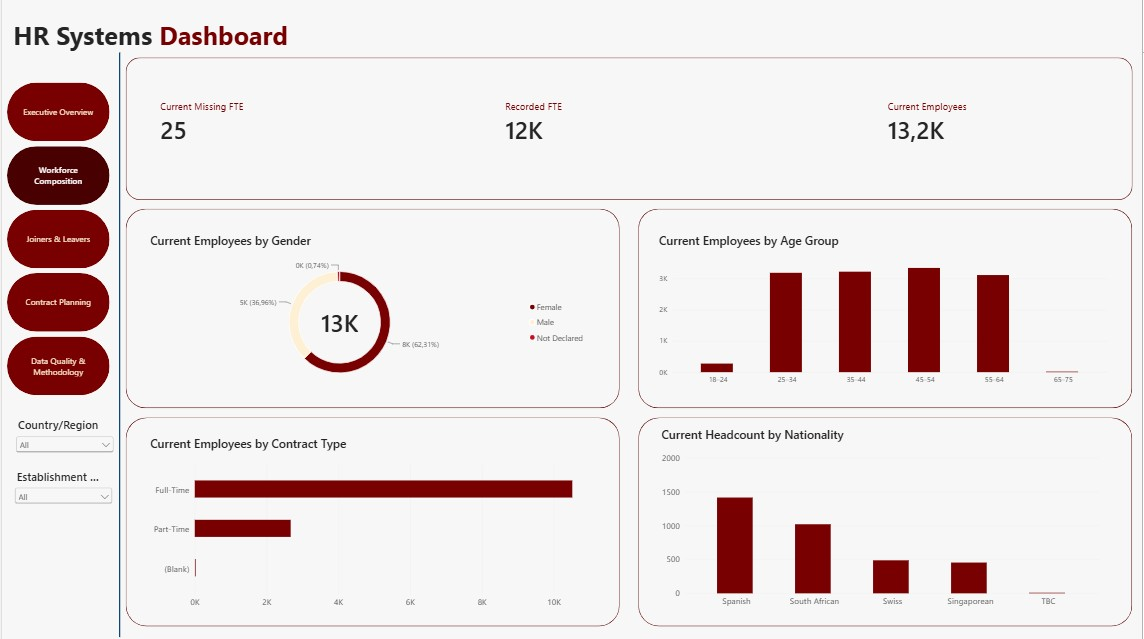

This screenshot's page, from the dashboard's own definition file:
{"tool":"powerbi","page":{"name":"Workforce Composition","canvas":[1920,1080],"ordinal":1},"visuals":[{"type":"shape","box":[208,704,832,352],"z":0},{"type":"shape","box":[1072,704,832,352],"z":1000},{"type":"shape","box":[1072,352,832,336],"z":2000},{"type":"shape","box":[208,352,832,336],"z":3000},{"type":"shape","box":[208,96,1696,240],"z":4000},{"type":"textbox","box":[19,29.2,557.3,80.2],"z":5000},{"type":"shape","box":[192,88,13.1,984.8],"z":6000},{"type":"pageNavigator","box":[7.8,137.9,174,529.8],"z":7000},{"type":"donutChart","title":"Current Employees by Gender","fields":{"Category":["Employees_Reporting.Gender"],"Y":["Employees_Reporting.Current Headcount"]},"box":[234.3,376.6,771,290.6],"z":8000},{"type":"columnChart","title":"Current Employees by Age Group","fields":{"Category":["Employees_Reporting.Age Band"],"Y":["Employees_Reporting.Current Headcount"]},"box":[1089.7,376.6,788.8,290.6],"z":9000},{"type":"clusteredBarChart","title":"Current Employees by Contract Type","fields":{"Category":["Employees_Reporting.Contract Type"],"Y":["Employees_Reporting.Current Headcount"]},"box":[234.3,717.6,784.3,326.2],"z":10000},{"type":"columnChart","fields":{"Category":["Employees_Reporting.Nationality"],"Y":["Employees_Reporting.Current Headcount"]},"box":[1095.6,704,769.5,339.8],"z":11000},{"type":"slicer","fields":{"Values":["Employees_Reporting.Country/Region"]},"box":[19.3,704.2,173.5,86],"z":12000},{"type":"slicer","fields":{"Values":["Employees_Reporting.Establishment Name"]},"box":[17.8,790.2,173.5,68.2],"z":13000},{"type":"cardVisual","fields":{"Data":["Employees_Reporting.Current Employees Missing FTE"]},"box":[250.6,94.9,370.7,226.8],"z":13001},{"type":"cardVisual","fields":{"Data":["Employees_Reporting.Current FTE"]},"box":[831.8,94.9,370.7,226.8],"z":13002},{"type":"cardVisual","fields":{"Data":["Employees_Reporting.Current Headcount"]},"box":[1476.7,94.9,370.7,226.8],"z":13003}]}

Visuals, with their boxes in screenshot pixels (x1, y1, x2, y2), scaled from the page's 1920x1080 canvas onto the 1144x639 screenshot:
shape: box=[124, 417, 620, 625]
shape: box=[639, 417, 1134, 625]
shape: box=[639, 208, 1134, 407]
shape: box=[124, 208, 620, 407]
shape: box=[124, 57, 1134, 199]
textbox: box=[11, 17, 343, 65]
shape: box=[114, 52, 122, 635]
pageNavigator: box=[5, 82, 108, 395]
"Current Employees by Gender" donutChart: box=[140, 223, 599, 395]
"Current Employees by Age Group" columnChart: box=[649, 223, 1119, 395]
"Current Employees by Contract Type" clusteredBarChart: box=[140, 425, 607, 618]
columnChart - Employees_Reporting.Nationality x Employees_Reporting.Current Headcount: box=[653, 417, 1111, 618]
slicer - Employees_Reporting.Country/Region: box=[11, 417, 115, 468]
slicer - Employees_Reporting.Establishment Name: box=[11, 468, 114, 508]
cardVisual - Employees_Reporting.Current Employees Missing FTE: box=[149, 56, 370, 190]
cardVisual - Employees_Reporting.Current FTE: box=[496, 56, 716, 190]
cardVisual - Employees_Reporting.Current Headcount: box=[880, 56, 1101, 190]
